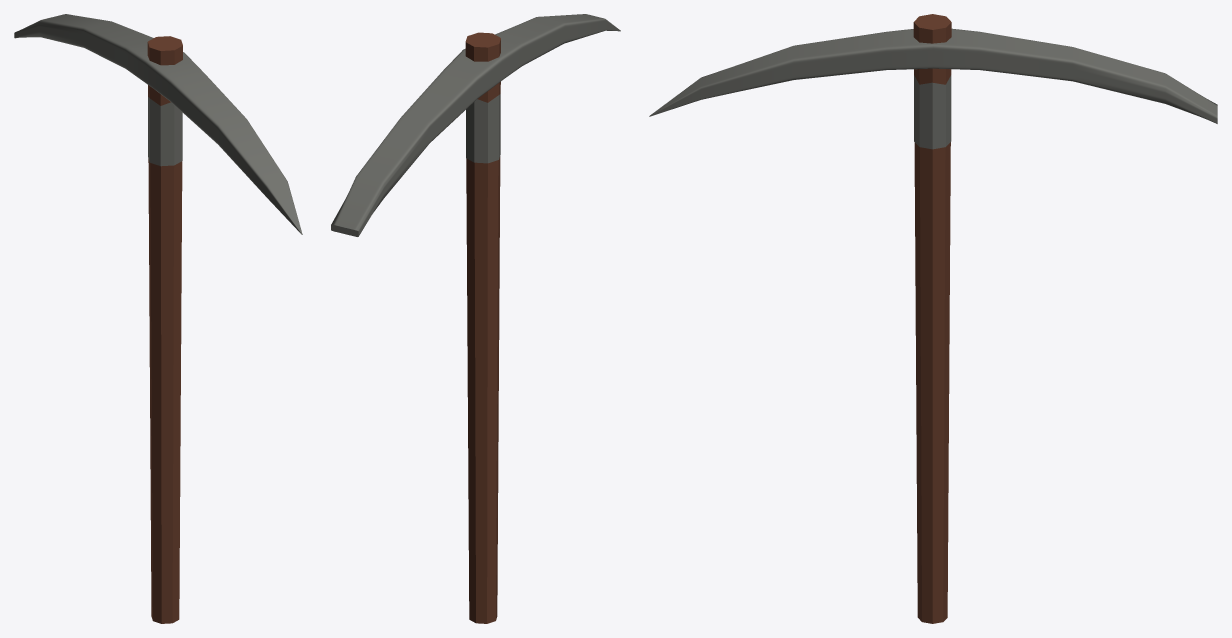
3 renders of one model, left to right at view 1: azimuth 30°, elevation 25°; view 2: azimuth 150°, elevation 25°; view 3: azimuth 270°, elevation 25°, orthographic. The views are drawn at different scales.
Visible parts, largest first — view 1: shaft, blade, collar; view 2: shaft, blade, collar; view 3: blade, shaft, collar.
Boxes of the visible parts, x1,y1,x2,y2 form: shaft: [147, 36, 182, 623]; blade: [14, 14, 302, 234]; collar: [148, 97, 182, 166]; shaft: [465, 32, 500, 623]; blade: [331, 14, 620, 236]; collar: [466, 94, 500, 163]; blade: [649, 28, 1217, 123]; shaft: [913, 14, 951, 623]; collar: [914, 75, 951, 149].
Size of the model in its own units: 0.065 by 0.9 by 0.7784.
